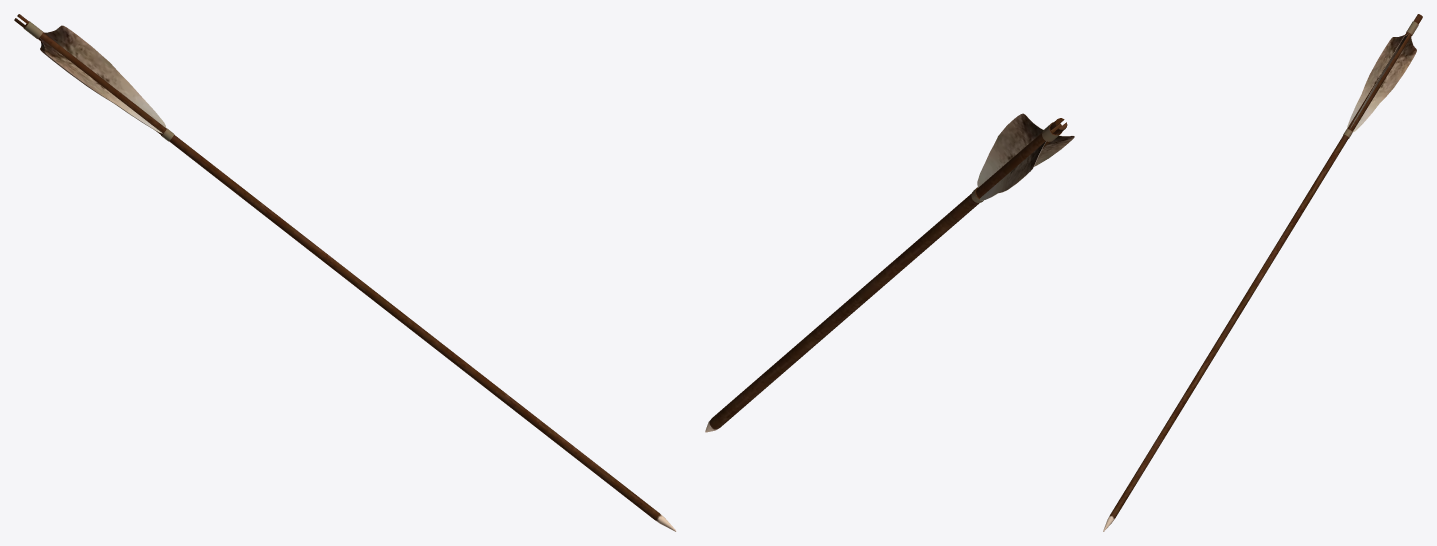
File: item-arrow.glb
3 renders of one model, left to right at view 1: azimuth 30°, elevation 25°; view 2: azimuth 150°, elevation 25°; view 3: azimuth 270°, elevation 25°, orthographic. The views are drawn at different scales.
Parts seen in each view (by area): view 1: WoodenArrow_WoodenArrow_0; view 2: WoodenArrow_WoodenArrow_0; view 3: WoodenArrow_WoodenArrow_0.
Boxes of the visible parts, x1=… form: WoodenArrow_WoodenArrow_0: x1=14, y1=14, x2=676, y2=531; WoodenArrow_WoodenArrow_0: x1=705, y1=113, x2=1074, y2=432; WoodenArrow_WoodenArrow_0: x1=1103, y1=14, x2=1422, y2=531.
Size of the model in its own units: 0.4687 by 0.4686 by 0.3834.
Materials: 1 (1 with a texture image).
